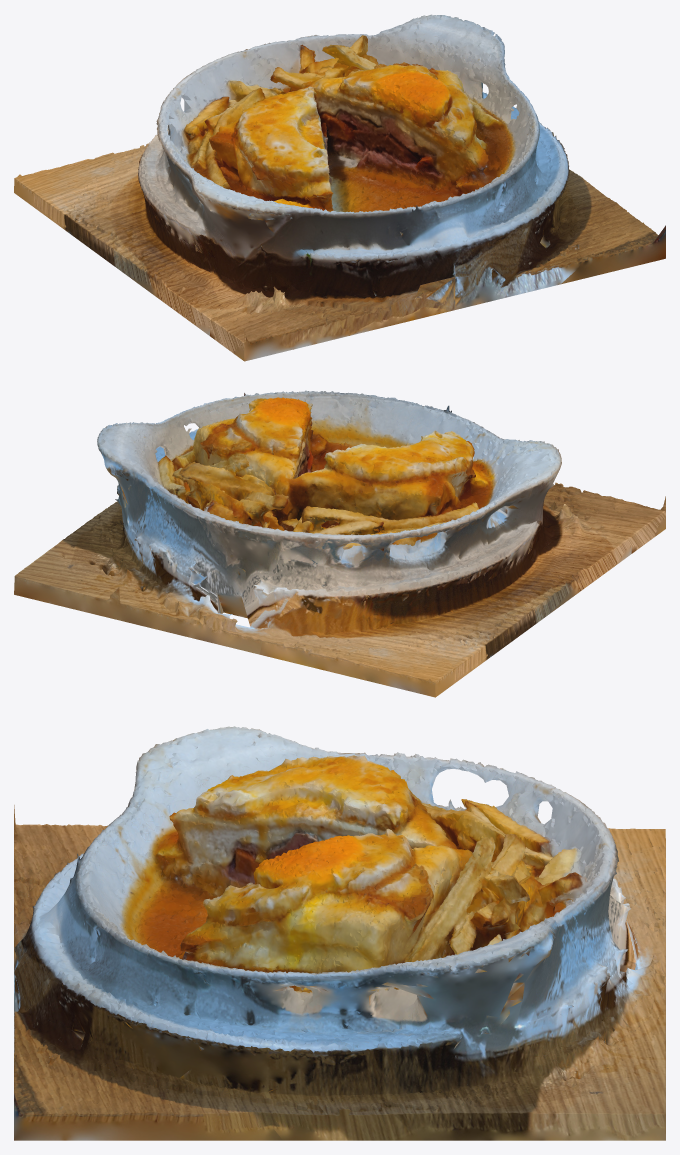
File: papas_bandeja.glb
3 views of the same model, one above another, from view 1: azimuth 30°, elevation 25°; view 2: azimuth 150°, elevation 25°; view 3: azimuth 270°, elevation 25° (orthographic). The views are drawn at different scales.
Parts seen in each view (by area): view 1: Object_2, Object_4, Object_3; view 2: Object_4, Object_2, Object_3; view 3: Object_4, Object_2, Object_3.
Boxes of the visible parts, bbox=[...] form: Object_2: bbox=[17, 36, 661, 342]; Object_4: bbox=[14, 27, 665, 361]; Object_3: bbox=[66, 14, 597, 328]; Object_4: bbox=[14, 390, 665, 697]; Object_2: bbox=[128, 391, 665, 677]; Object_3: bbox=[60, 391, 613, 663]; Object_4: bbox=[14, 755, 665, 1140]; Object_2: bbox=[14, 726, 661, 1114]; Object_3: bbox=[14, 729, 665, 1115].
Size of the model in its own units: 0.3234 by 0.0999 by 0.3062.
Materials: 2 (2 with a texture image).
